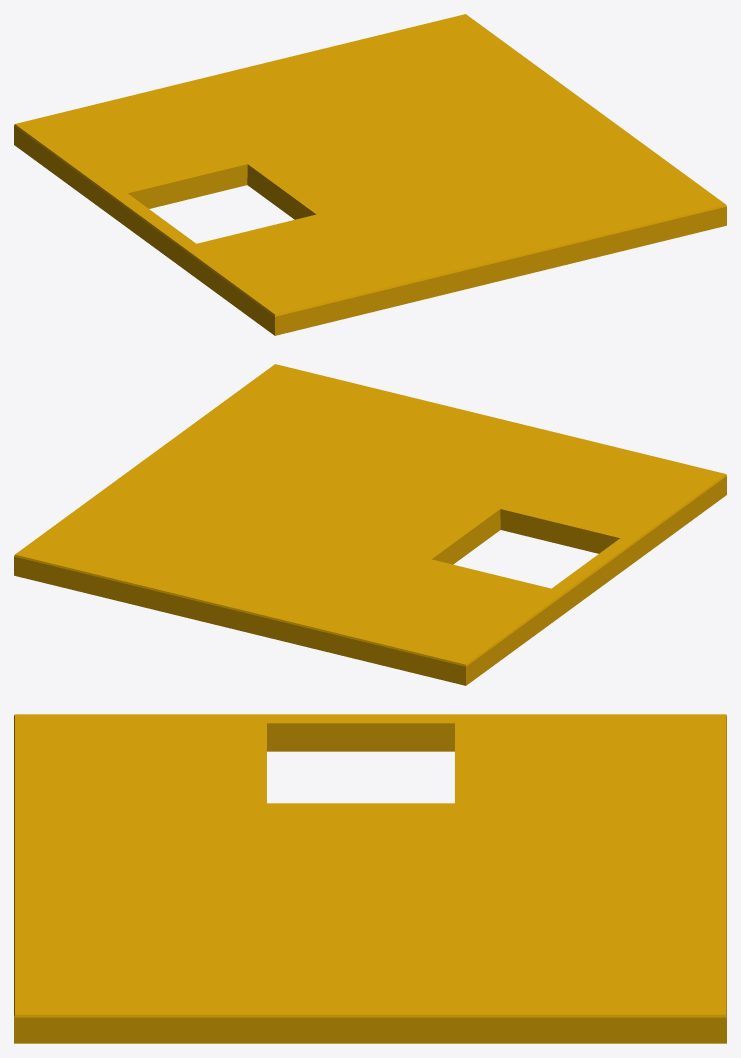
The model's file is Move_Game_SliderHole_08.fbx.
The picture shows the model from 3 angles, top to bottom: view 1: azimuth 30°, elevation 25°; view 2: azimuth 150°, elevation 25°; view 3: azimuth 270°, elevation 25°; orthographic projection. The views are drawn at different scales.
Parts seen in each view (by area): view 1: Move_Game_SliderHole_08; view 2: Move_Game_SliderHole_08; view 3: Move_Game_SliderHole_08.
Part boxes in pixels (box(x1,y1,x2,y2)): Move_Game_SliderHole_08: box(14, 14, 726, 335); Move_Game_SliderHole_08: box(14, 364, 726, 685); Move_Game_SliderHole_08: box(14, 714, 726, 1043).
Size of the model in its own units: 17.29 by 0.7676 by 17.29.
